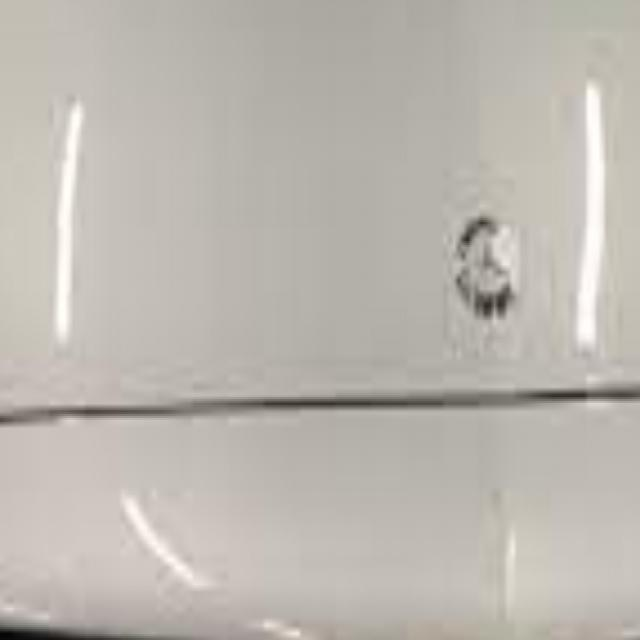dents: (443, 206, 531, 352)
